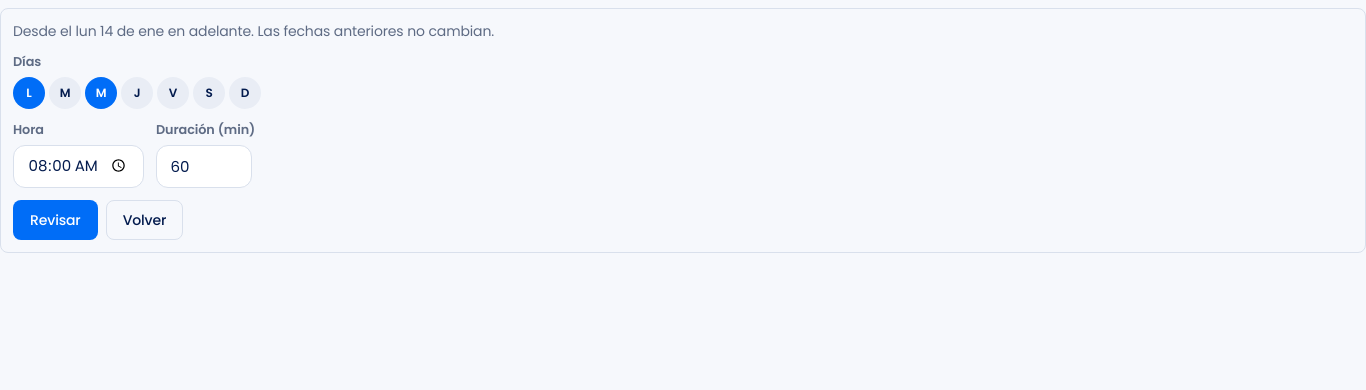
Scenario: cambiar una clase recurrente › cambia los días y muestra qué fechas se quitan, se crean o no se pueden crear
Quita el miércoles y agrega el viernes.
Step 1. Click the button named "miércoles" → {"x": 101, "y": 93}, box top-left (85, 77), bottom-right (117, 109)
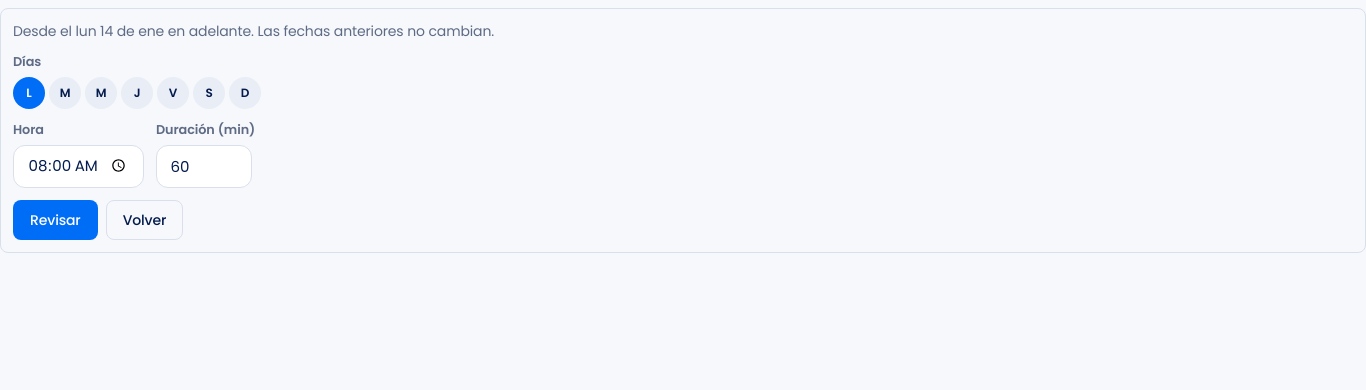
Step 2. Click the button named "viernes" → {"x": 173, "y": 93}, box top-left (157, 77), bottom-right (189, 109)
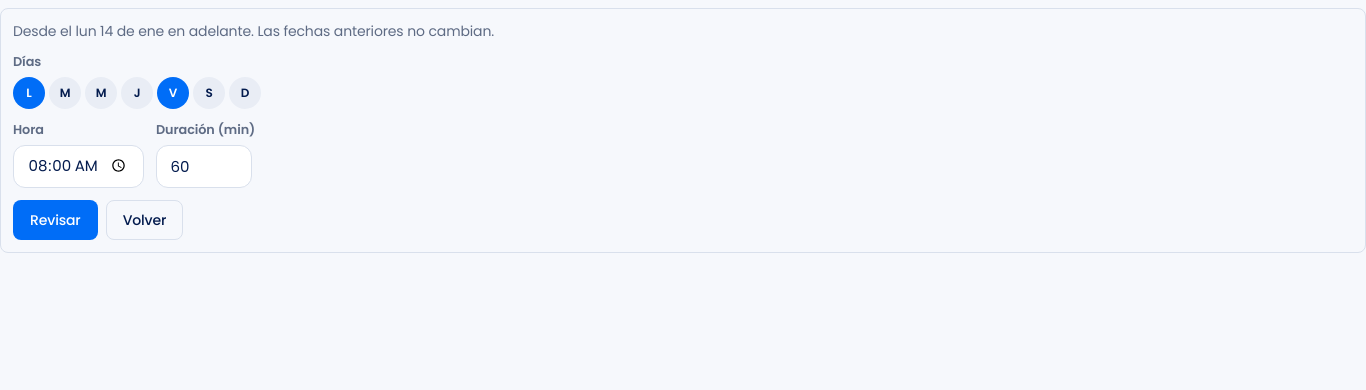
Step 3. Submit the form
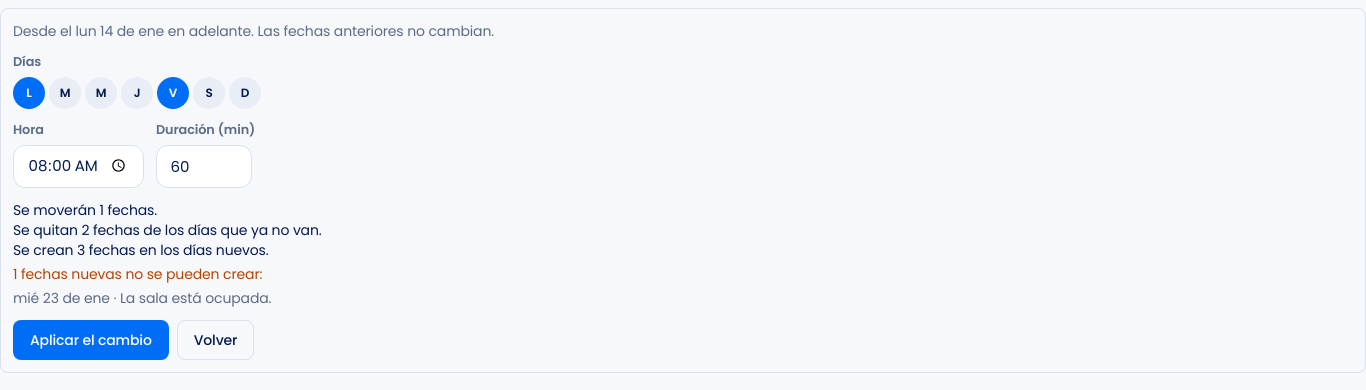
Expected: the message shows "Se quitan 2 fechas", top-left (13, 220), bottom-right (322, 240)
Expected: the message shows "Se crean 3 fechas", top-left (13, 240), bottom-right (269, 260)
Expected: the message shows "La sala está ocupada.", top-left (13, 288), bottom-right (271, 308)
